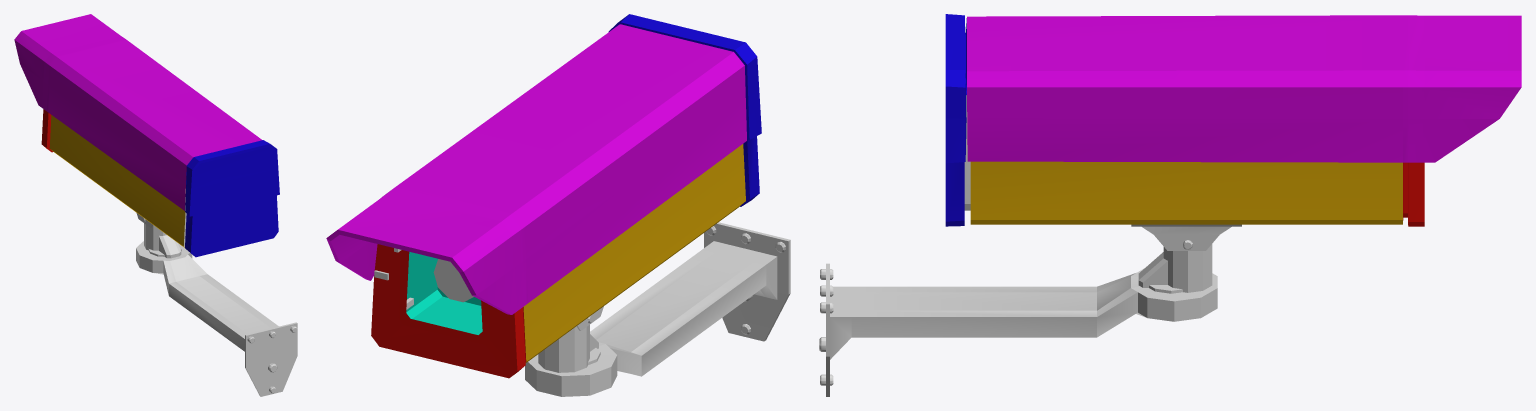
File: Surveillence Camera.fbx
3 views of the same model, side by side, from view 1: azimuth 30°, elevation 25°; view 2: azimuth 150°, elevation 25°; view 3: azimuth 270°, elevation 25° (orthographic). The views are drawn at different scales.
Visible parts, largest first — view 1: polySurface1, polySurface5, polySurface6, pCylinder3; view 2: polySurface1, polySurface5, polySurface6, pCylinder3, pCylinder1; view 3: polySurface1, polySurface5, pCylinder3, polySurface4.
Boxes of the visible parts, x1,y1,x2,y2 form: polySurface1: (14, 14, 279, 257); polySurface5: (136, 241, 278, 351); polySurface6: (245, 322, 297, 396); pCylinder3: (144, 223, 181, 258); polySurface1: (326, 14, 761, 378); polySurface5: (525, 241, 777, 396); polySurface6: (704, 222, 790, 341); pCylinder3: (538, 325, 598, 372); pCylinder1: (433, 259, 473, 302); polySurface1: (945, 14, 1521, 226); polySurface5: (830, 268, 1217, 359); pCylinder3: (1138, 244, 1212, 292); polySurface4: (1142, 226, 1231, 250).
Size of the model in its own units: 46.33 by 105 by 193.
